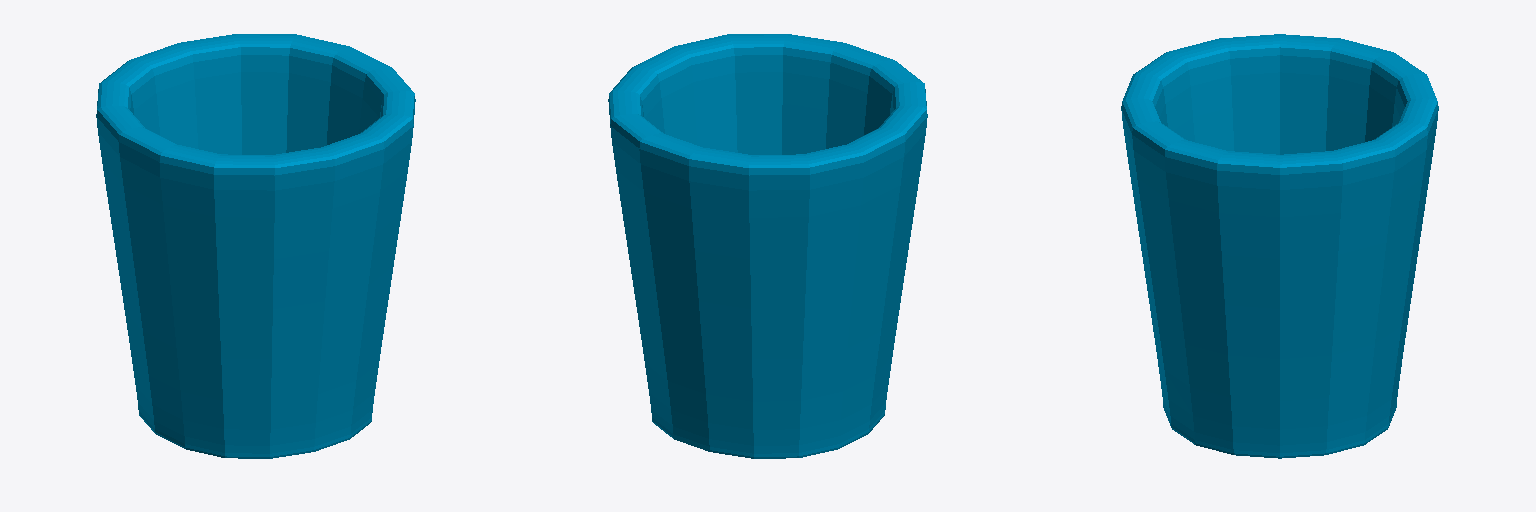
The model's file is Glass.obj.
3 renders of one model, left to right at view 1: azimuth 30°, elevation 25°; view 2: azimuth 150°, elevation 25°; view 3: azimuth 270°, elevation 25°, orthographic.
Parts seen in each view (by area): view 1: Cube; view 2: Cube; view 3: Cube.
Part boxes in pixels (bbox=[...]): Cube: bbox=[96, 34, 415, 458]; Cube: bbox=[608, 34, 927, 458]; Cube: bbox=[1121, 34, 1438, 458].
Size of the model in its own units: 1.81 by 1.99 by 1.81.